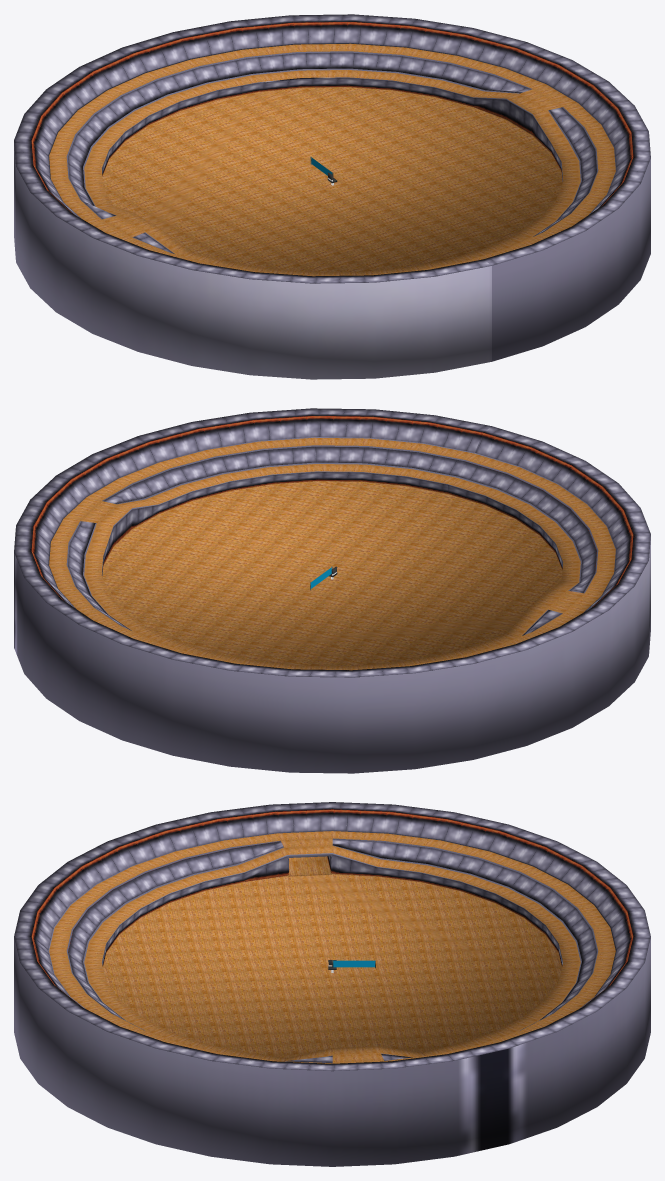
File: Set_Audience2.fbx
3 renders of one model, top to bottom at view 1: azimuth 30°, elevation 25°; view 2: azimuth 150°, elevation 25°; view 3: azimuth 270°, elevation 25°, orthographic.
Parts seen in each view (by area): view 1: Stadium; view 2: Stadium; view 3: Stadium.
Part boxes in pixels (box(x1,y1,x2,y2)): Stadium: box(14, 14, 650, 379); Stadium: box(14, 408, 650, 773); Stadium: box(14, 802, 650, 1166).
Bounding box in the file's own units: 8000 × 1327 × 8000.
